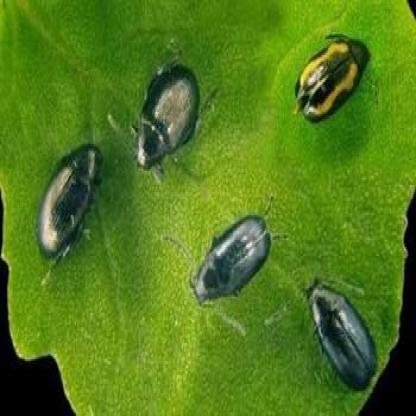beetle: (178, 212, 283, 304), (131, 62, 209, 181), (30, 136, 103, 260), (306, 270, 381, 390), (294, 35, 372, 124)
